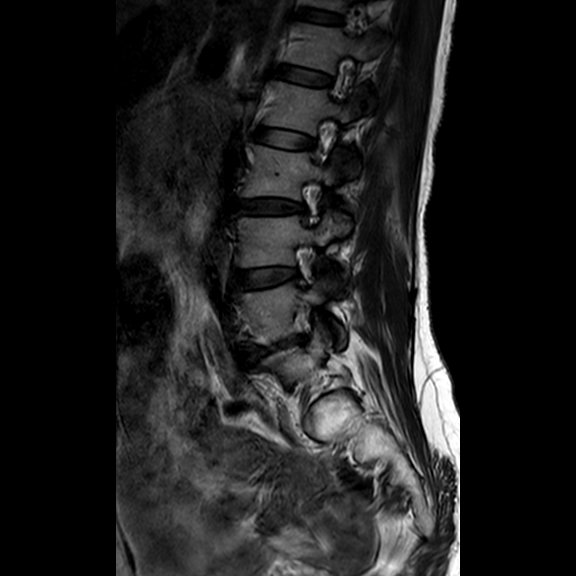RFS0: (278, 233, 327, 296), (285, 169, 331, 232), (301, 107, 343, 168)
